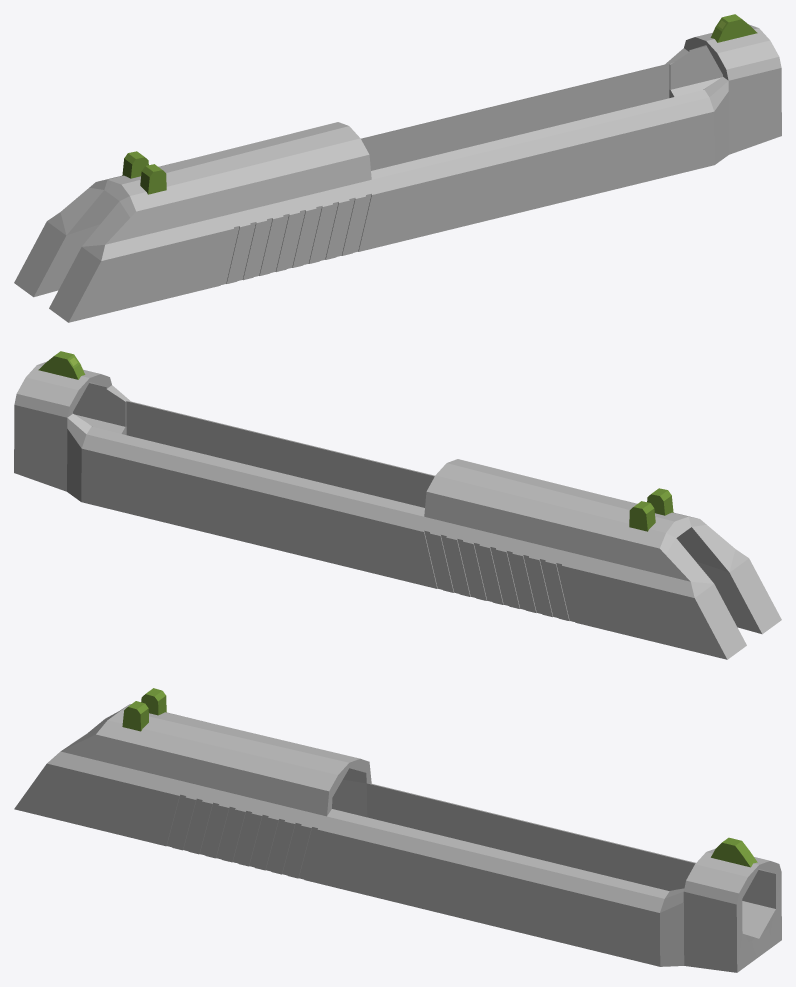
The model's file is Pistol1_05_2.fbx.
3 views of the same model, one above another, from view 1: azimuth 30°, elevation 25°; view 2: azimuth 150°, elevation 25°; view 3: azimuth 330°, elevation 25° (orthographic).
Visible parts, largest first — view 1: Pistol1_05_2; view 2: Pistol1_05_2; view 3: Pistol1_05_2.
Boxes of the visible parts, x1,y1,x2,y2 form: Pistol1_05_2: (14,14,781,322); Pistol1_05_2: (14,351,781,659); Pistol1_05_2: (14,688,781,972).
Size of the model in its own units: 0.2348 by 0.0363 by 0.0308.
